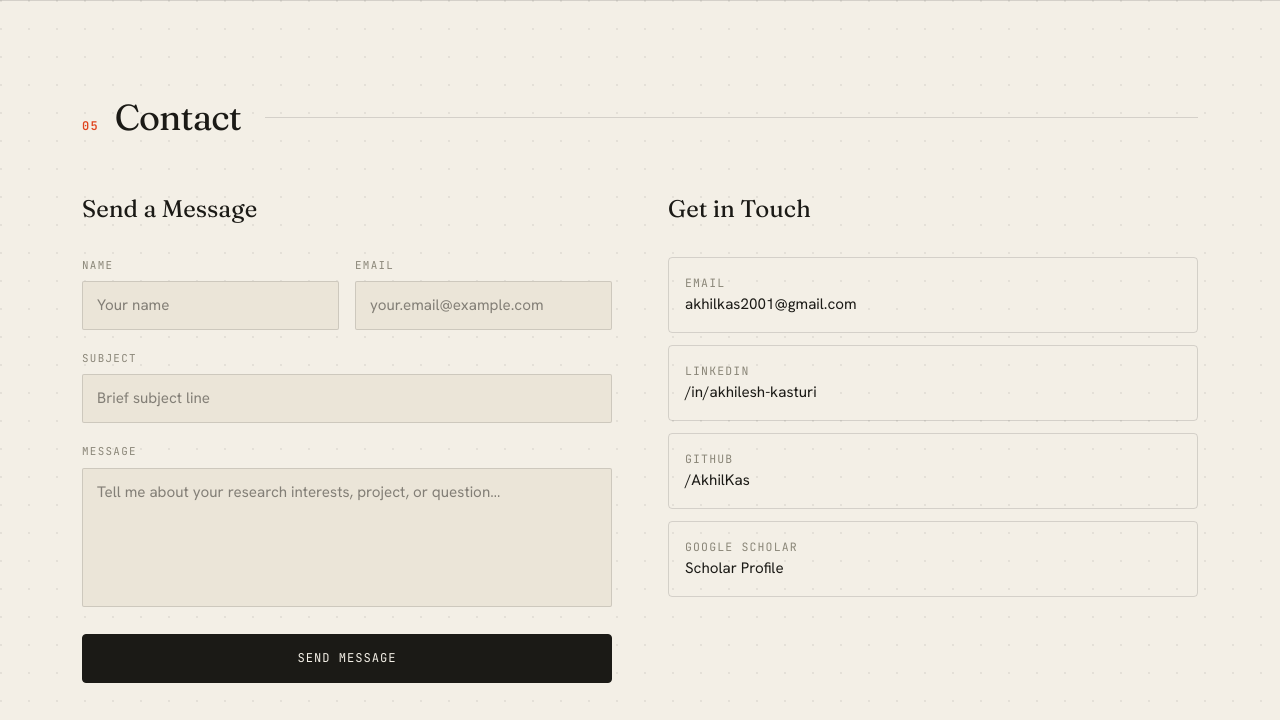
Test: Contact form submission › shows an error message when EmailJS fails
This screenshot has width=1280, height=720.
Type "Ada Lovelace" into the field with placeholder "Your name" at point(210, 306), box [82,281,339,330]
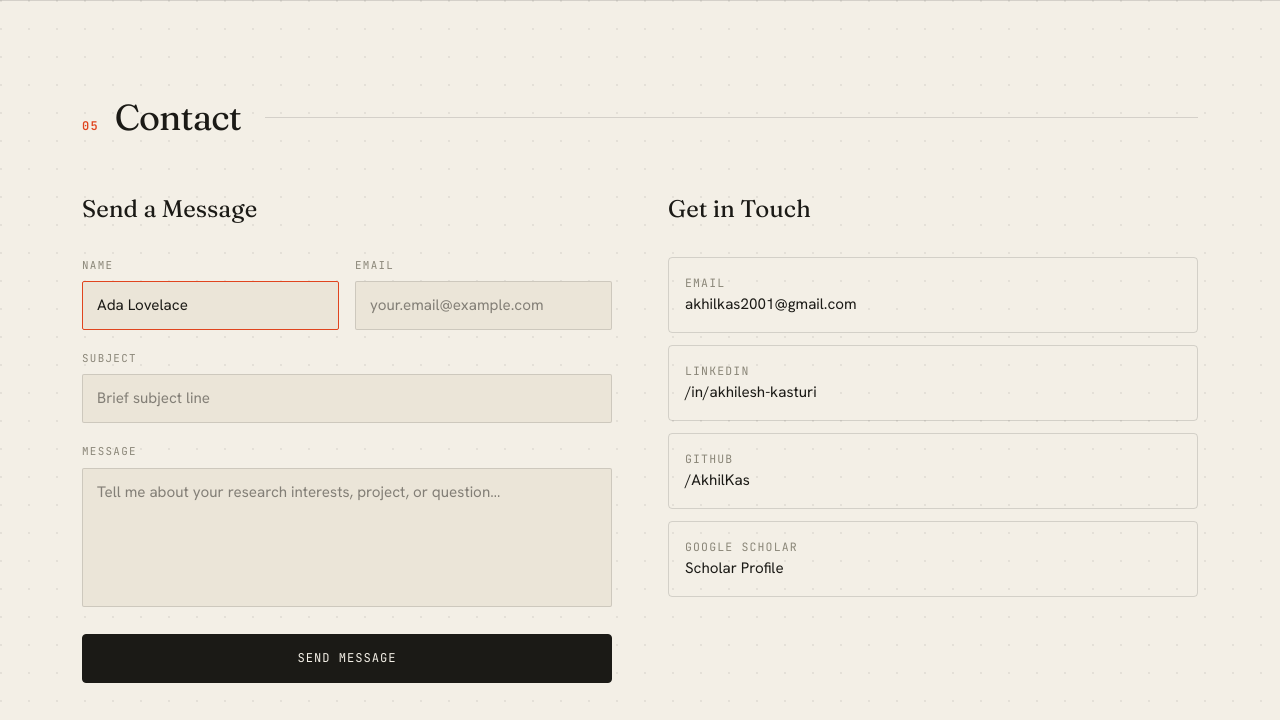
Type "ada@example.com" into the field with placeholder "your.email@example.com" at point(484, 306), box [355,281,612,330]
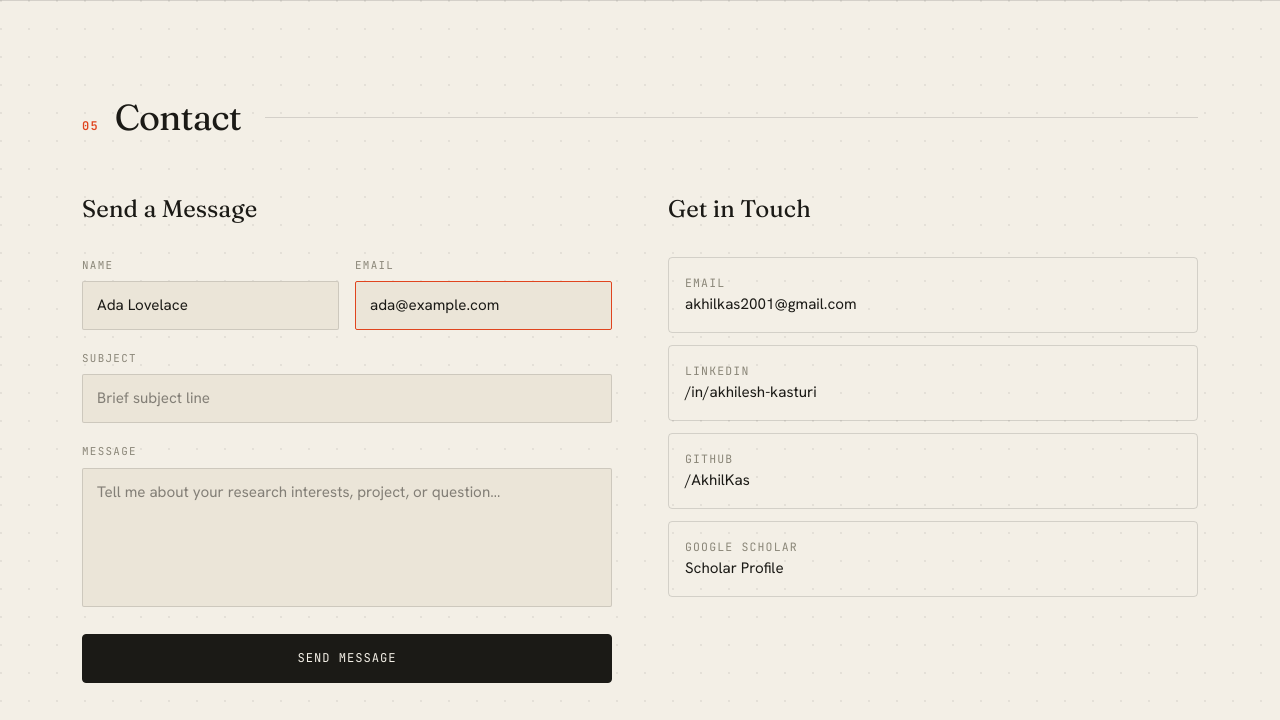
Type "Hello" into the field with placeholder "Brief subject line" at point(347, 399), box [82,374,612,423]
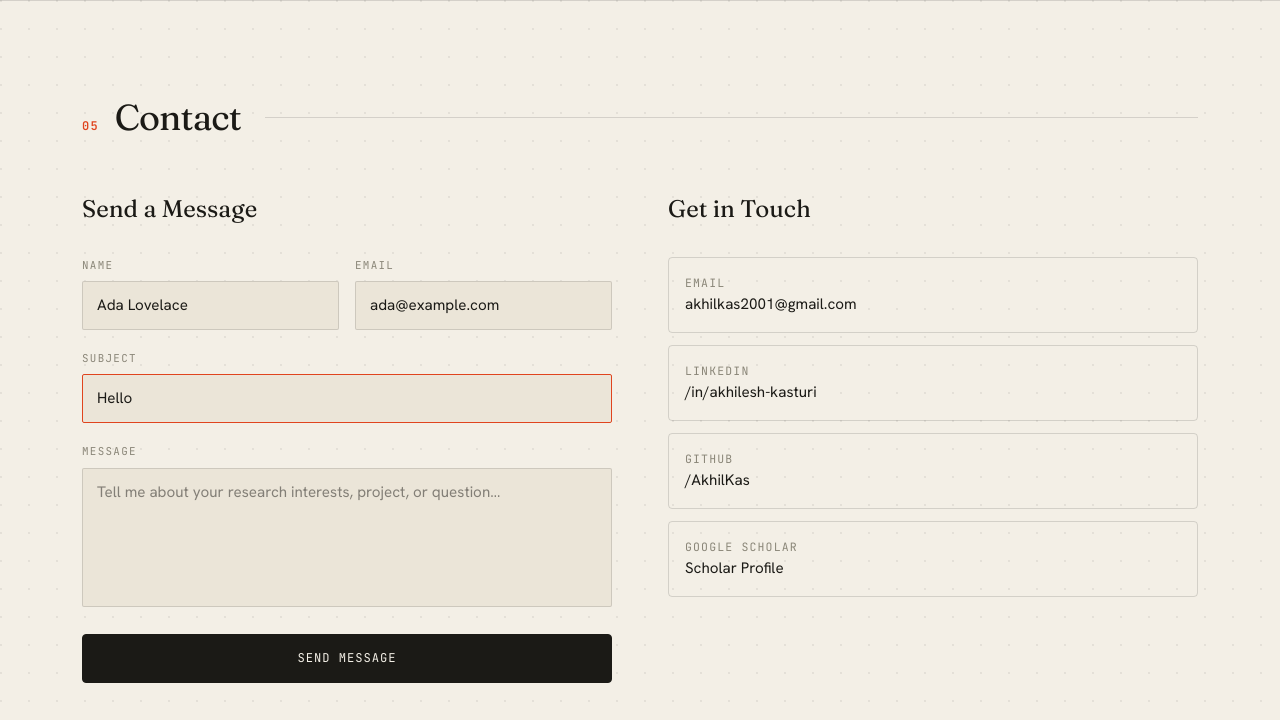
Type "Nice portfolio" into the text box named "message" at point(347, 537), box [82,468,612,607]
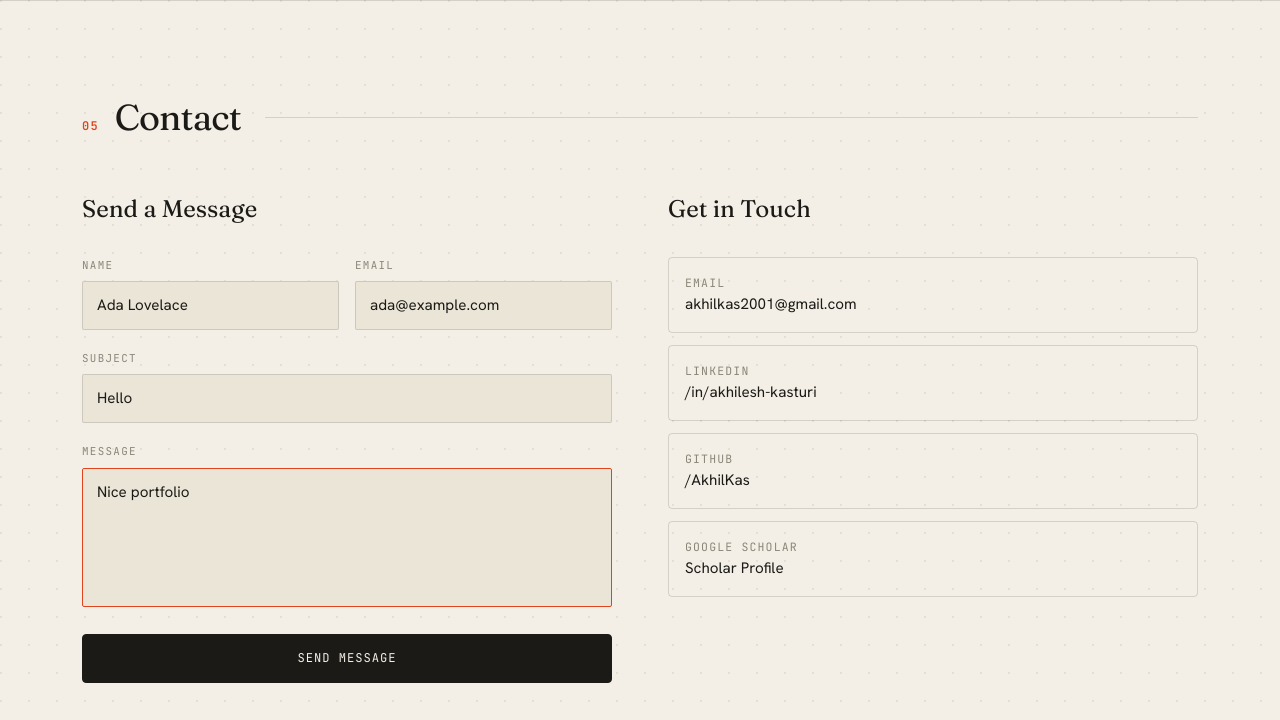
Click the button "Send Message" at point(347, 658), box [82,634,612,683]
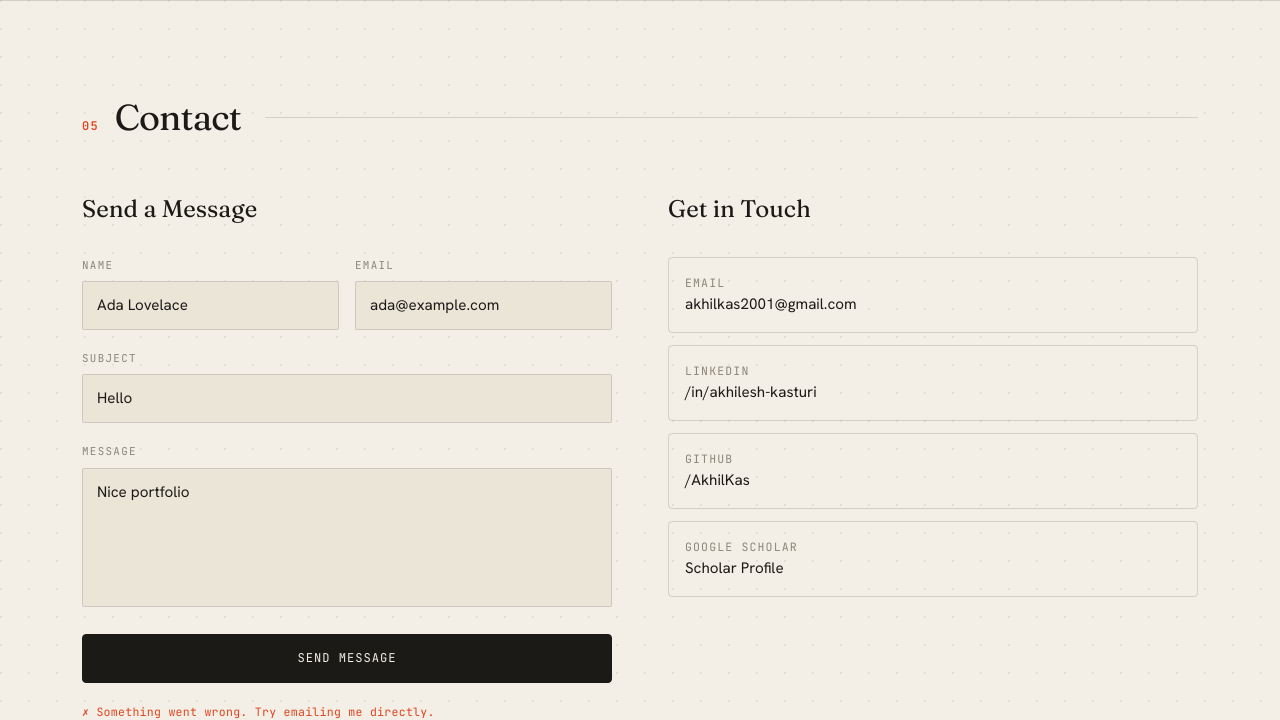
expect the text "✗ Something went wrong. Try emailing me directly." is shown: met, box [82,704,435,719]
